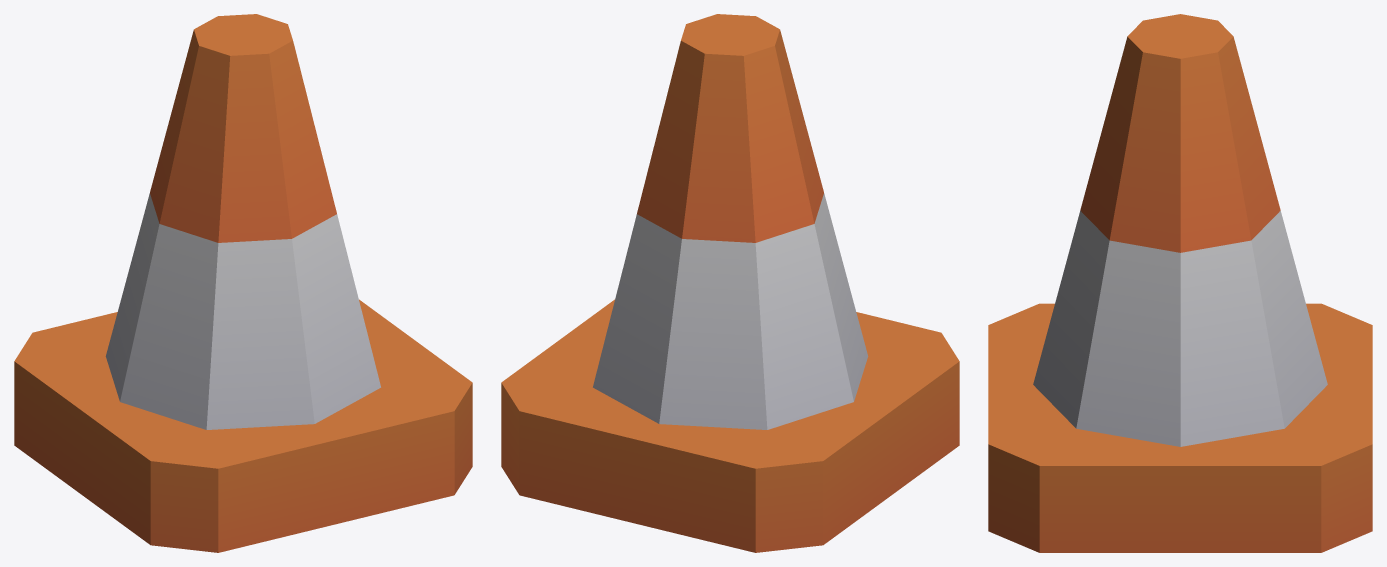
The model's file is construction-cone.glb.
The picture shows the model from 3 angles, left to right: view 1: azimuth 30°, elevation 25°; view 2: azimuth 150°, elevation 25°; view 3: azimuth 270°, elevation 25°; orthographic projection. The views are drawn at different scales.
Parts seen in each view (by area): view 1: geometry_0; view 2: geometry_0; view 3: geometry_0.
Boxes of the visible parts, x1,y1,x2,y2 form: geometry_0: (14,14,472,552); geometry_0: (501,14,959,552); geometry_0: (988,14,1372,552).
Bounding box in the file's own units: 0.664 × 0.83 × 0.664.
